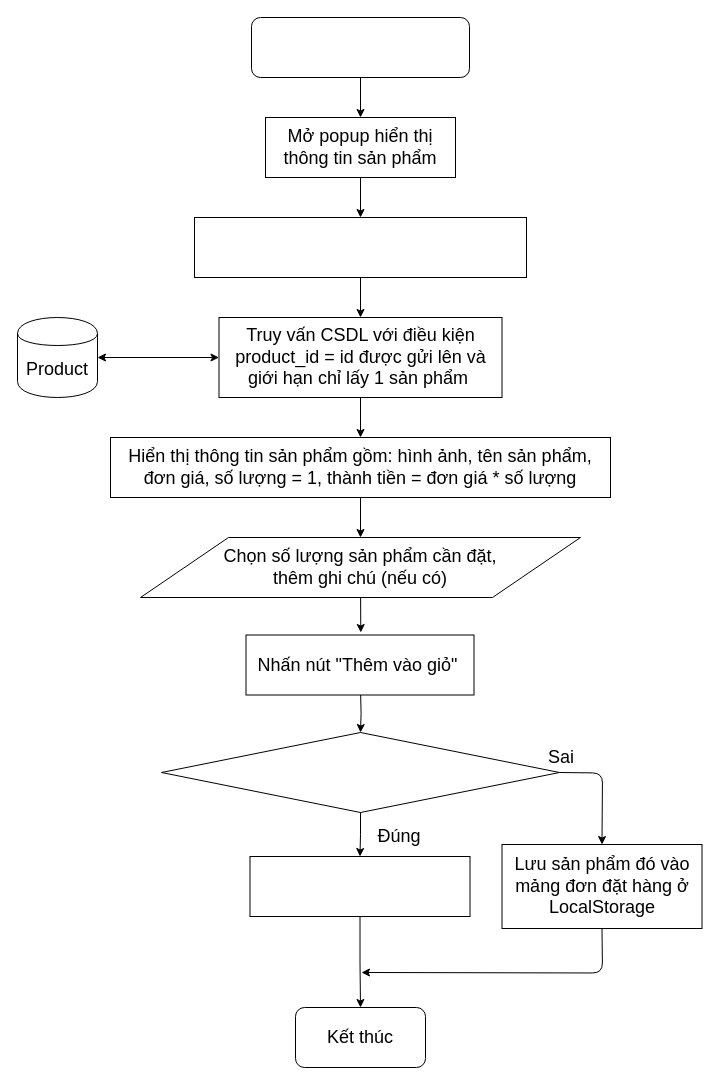
This 720x1085 diagram has some shape labels left out. The shapes that lost their labels are listed below. From the top down, each one's centre as x and y in pixels, then its label:
(360,47): Nhấn nút "Mua ngay" ở sản phẩm muốn đặt
(360,247): Gửi yêu cầu đến server có đính kèm mã của sản phẩm (product_id)
(360,772): Sản phẩm đã tồn tại trong mảng chưa?
(359,886): Tăng số lượng sản phẩm đã tồn tại trong mảng
